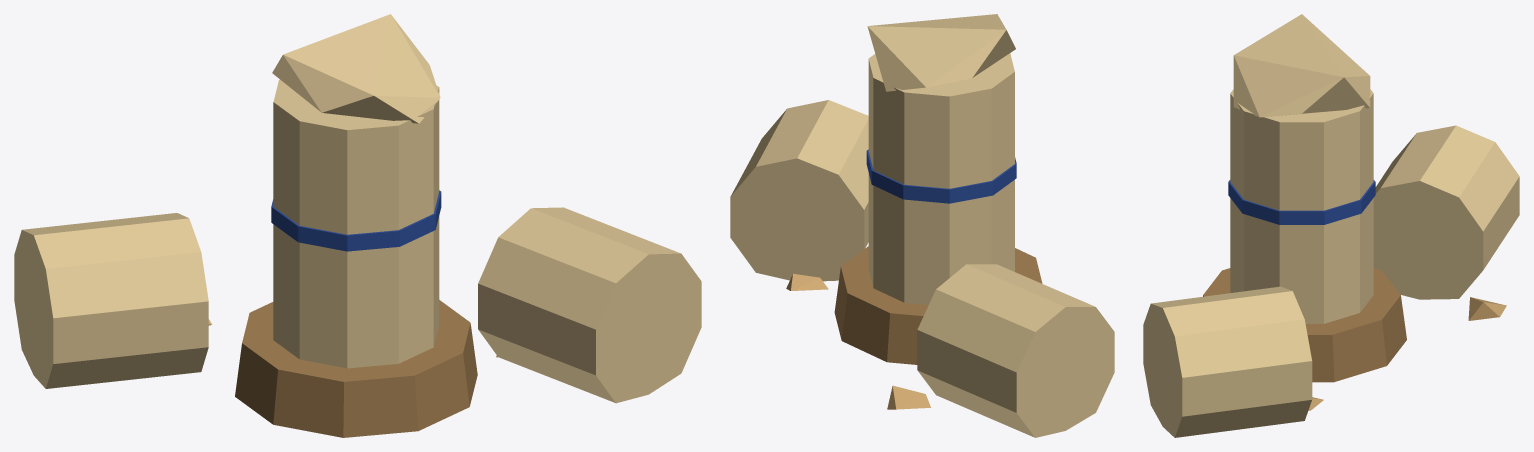
The model's file is desert_column_broken.glb.
3 renders of one model, left to right at view 1: azimuth 30°, elevation 25°; view 2: azimuth 150°, elevation 25°; view 3: azimuth 270°, elevation 25°, orthographic. The views are drawn at different scales.
Parts seen in each view (by area): view 1: desert_column_broken; view 2: desert_column_broken; view 3: desert_column_broken.
Part boxes in pixels (box(x1,y1,x2,y2)): desert_column_broken: box(14, 14, 701, 437); desert_column_broken: box(730, 14, 1114, 437); desert_column_broken: box(1143, 14, 1519, 437).
Bounding box in the file's own units: 4.14 × 2.64 × 3.04.
